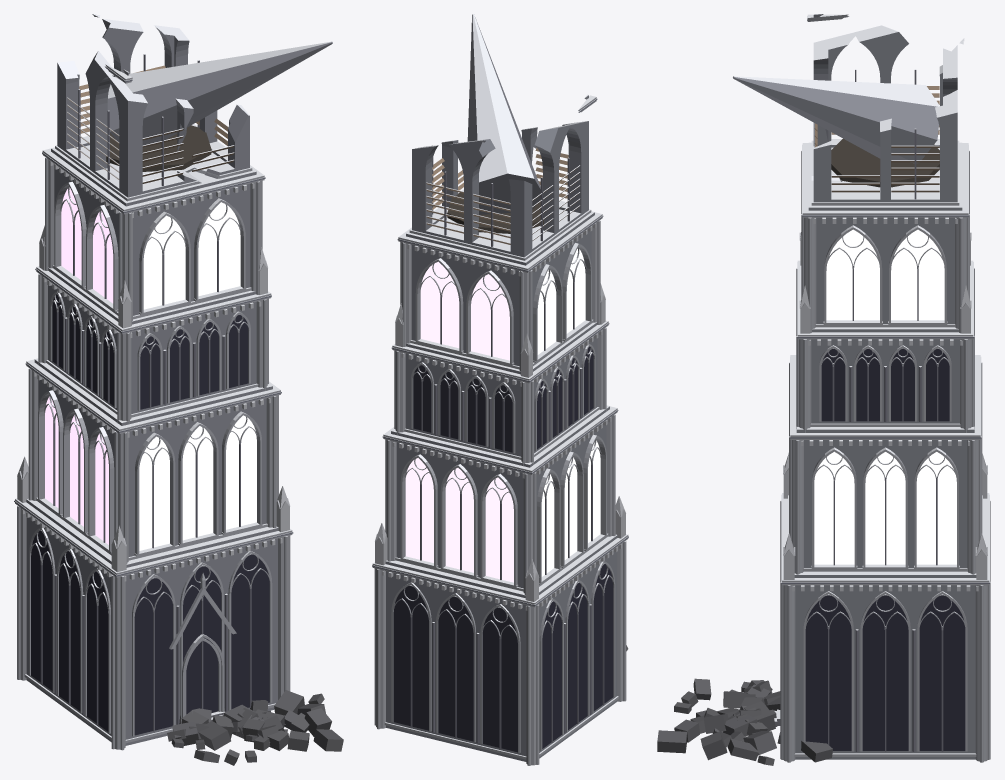
File: AR_Torre_Partida.fbx
3 renders of one model, left to right at view 1: azimuth 30°, elevation 25°; view 2: azimuth 150°, elevation 25°; view 3: azimuth 270°, elevation 25°, orthographic. The views are drawn at different scales.
Visible parts, largest first — view 1: AR_Torre_Partida; view 2: AR_Torre_Partida; view 3: AR_Torre_Partida.
Boxes of the visible parts, left/top/right/bottom form: AR_Torre_Partida: left=14, top=14, right=343, bottom=765; AR_Torre_Partida: left=372, top=14, right=628, bottom=765; AR_Torre_Partida: left=657, top=14, right=990, bottom=765.
Size of the model in its own units: 19.43 by 62.86 by 27.34.
